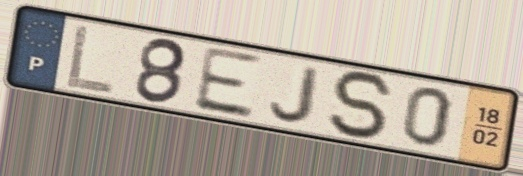0: (400, 84, 457, 151)
8: (132, 36, 188, 106)
E: (190, 43, 263, 121)
J: (267, 63, 325, 125)
L: (62, 21, 117, 97)
S: (327, 69, 399, 143)
